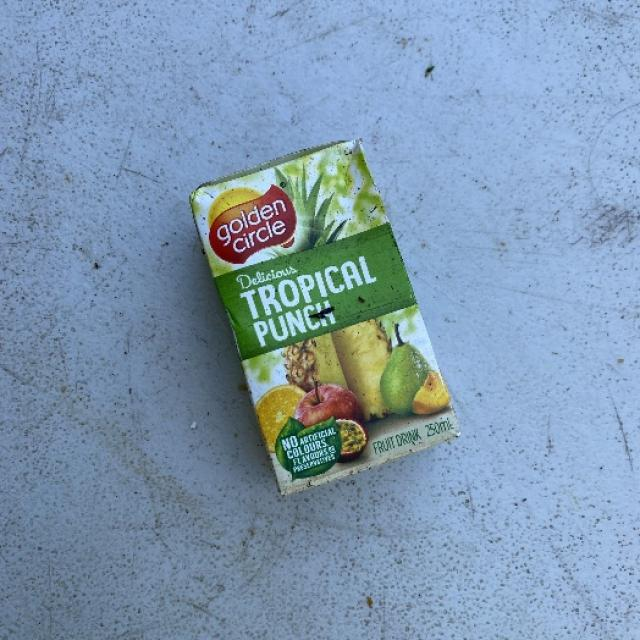kertas: (162, 154, 468, 521)
